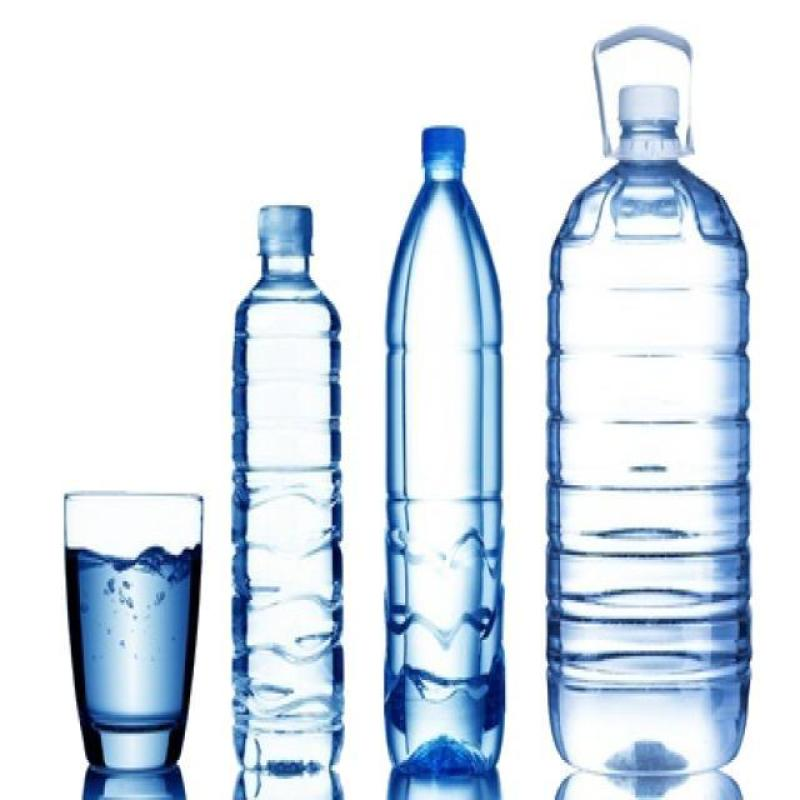botella: (383, 123, 508, 786), (228, 209, 346, 772)
